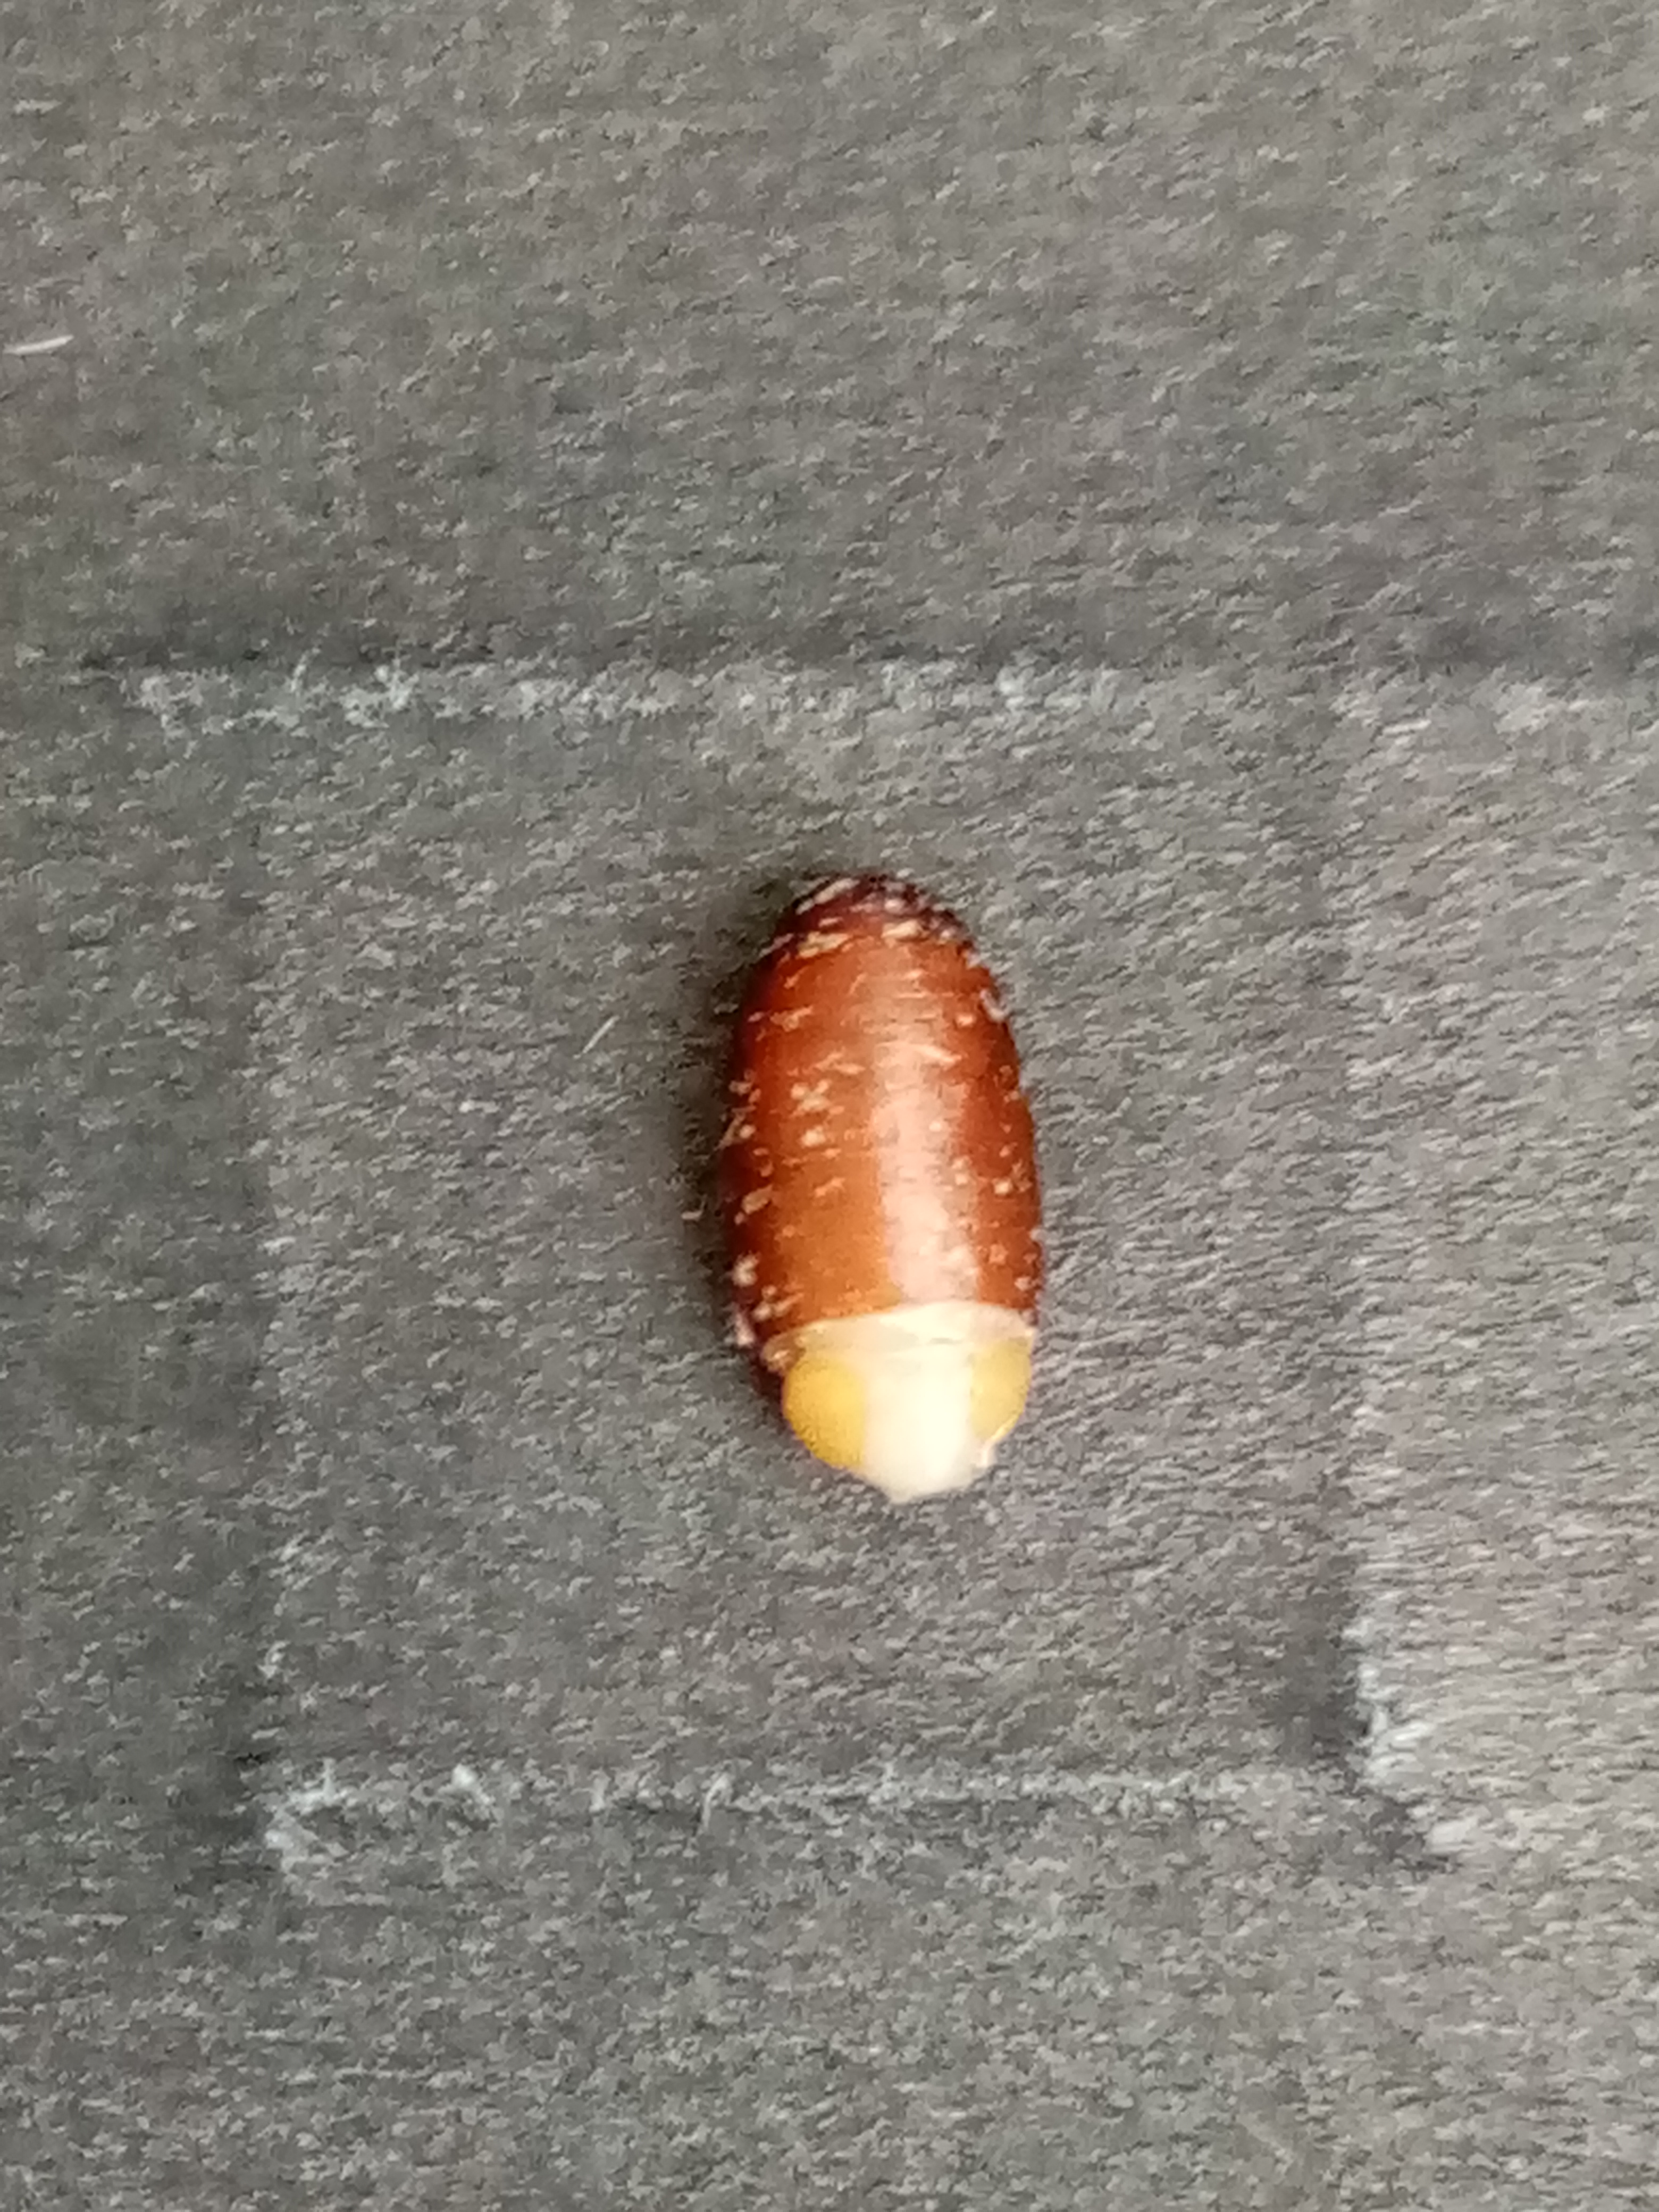pupa: (749, 1324, 1047, 1503)
